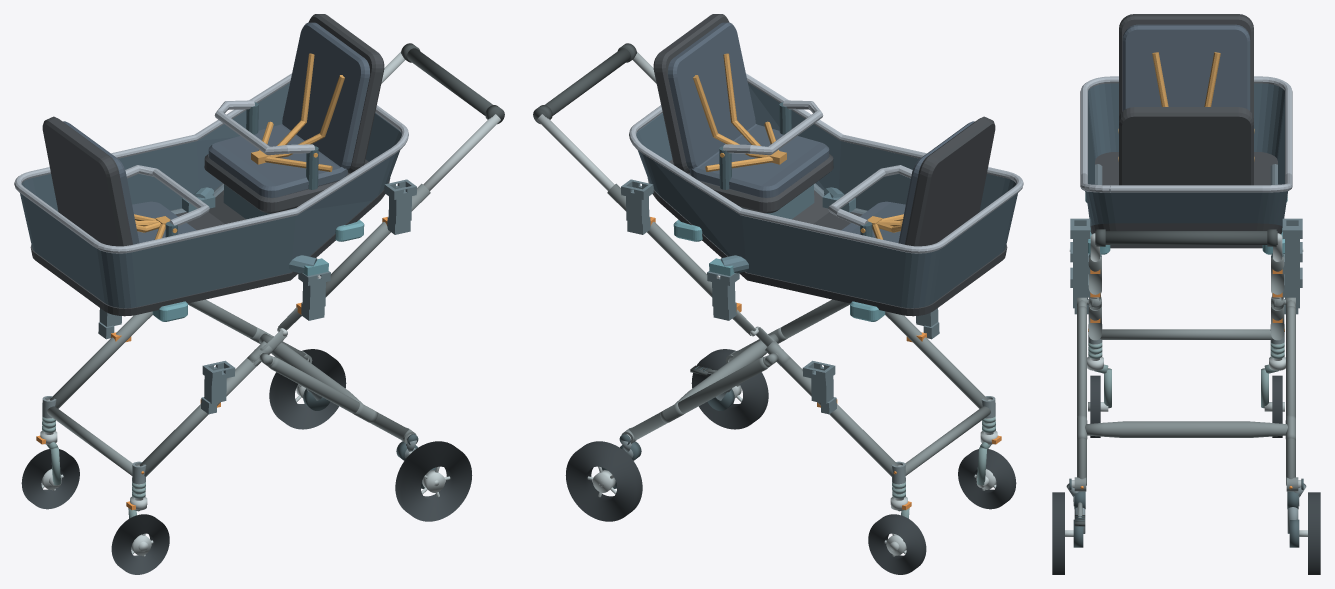
The model's file is S11_w550_state1_wheel_S.glb.
The picture shows the model from 3 angles, left to right: view 1: azimuth 30°, elevation 25°; view 2: azimuth 150°, elevation 25°; view 3: azimuth 270°, elevation 25°; orthographic projection.
Parts seen in each view (by area): view 1: S11_Cabin, RL_tire.002, RR_tire.002, FL_tire.002, FR_tire.002, V46_rear_leg_-1.003, main_lower_1.003, main_lower_-1.003, round_handle.002, main_upper_-1.003, Universal_Cabin_Receiver_H_-1, Universal_Cabin_Receiver_L_-1 (+6 smaller); view 2: S11_Cabin, RR_tire.002, RL_tire.002, FR_tire.002, FL_tire.002, V46_rear_leg_1.003, main_lower_-1.003, main_lower_1.003, round_handle.002, main_upper_1.003, Universal_Cabin_Receiver_H_1, Universal_Cabin_Receiver_L_1 (+6 smaller); view 3: S11_Cabin, V46_rearbar.003, round_handle.002, front_fixed_round_tube.002, V46_rear_leg_1.003, V46_rear_leg_-1.003, RL_tire.002, RR_tire.002, Universal_Cabin_Receiver_H_1, Universal_Cabin_Receiver_H_-1, FL_tire.002, FR_tire.002 (+6 smaller).
Part boxes in pixels (x1,y1,x2,y2): S11_Cabin: (14, 14, 408, 321); RL_tire.002: (395, 441, 472, 521); RR_tire.002: (269, 349, 346, 429); FL_tire.002: (111, 514, 169, 574); FR_tire.002: (21, 449, 79, 509); V46_rear_leg_-1.003: (269, 357, 408, 440); main_lower_1.003: (50, 311, 152, 408); main_lower_-1.003: (139, 358, 259, 476); round_handle.002: (407, 48, 503, 122); main_upper_-1.003: (302, 183, 430, 302); Universal_Cabin_Receiver_H_-1: (384, 179, 416, 234); Universal_Cabin_Receiver_L_-1: (201, 360, 235, 414); S11_Cabin: (629, 14, 1023, 321); RR_tire.002: (565, 441, 642, 521); RL_tire.002: (691, 349, 768, 429); FR_tire.002: (868, 514, 926, 574); FL_tire.002: (958, 449, 1016, 509); V46_rear_leg_1.003: (629, 357, 768, 440); main_lower_-1.003: (885, 311, 987, 408); main_lower_1.003: (778, 358, 898, 476); round_handle.002: (534, 48, 630, 122); main_upper_1.003: (607, 183, 735, 302); Universal_Cabin_Receiver_H_1: (621, 179, 653, 234); Universal_Cabin_Receiver_L_1: (802, 360, 836, 414); S11_Cabin: (1080, 14, 1292, 254); V46_rearbar.003: (1085, 421, 1287, 437); round_handle.002: (1095, 231, 1277, 244); front_fixed_round_tube.002: (1100, 329, 1272, 339); V46_rear_leg_1.003: (1286, 306, 1295, 485); V46_rear_leg_-1.003: (1077, 306, 1086, 485); RL_tire.002: (1052, 492, 1064, 574); RR_tire.002: (1308, 492, 1320, 574); Universal_Cabin_Receiver_H_1: (1282, 218, 1302, 274); Universal_Cabin_Receiver_H_-1: (1070, 218, 1090, 274); FL_tire.002: (1090, 375, 1100, 437); FR_tire.002: (1272, 375, 1282, 437).
Size of the model in its own units: 1.14 by 1.2 by 0.6471.
